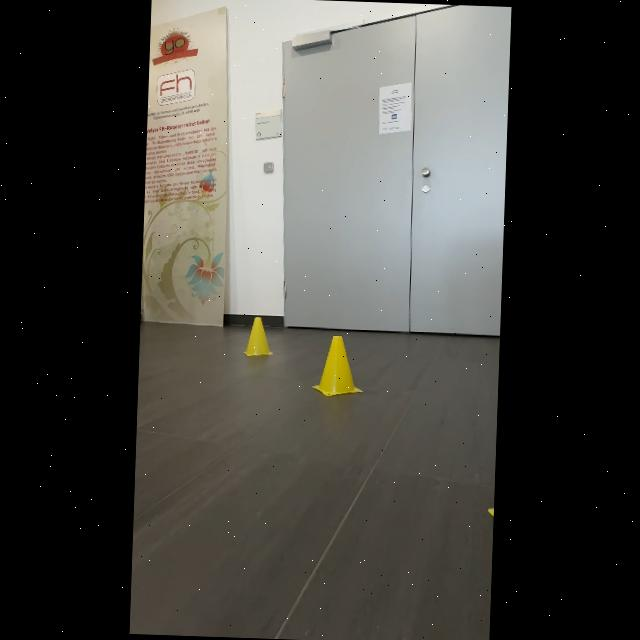yellow_cone: (310, 329, 365, 400), (239, 312, 278, 364)
